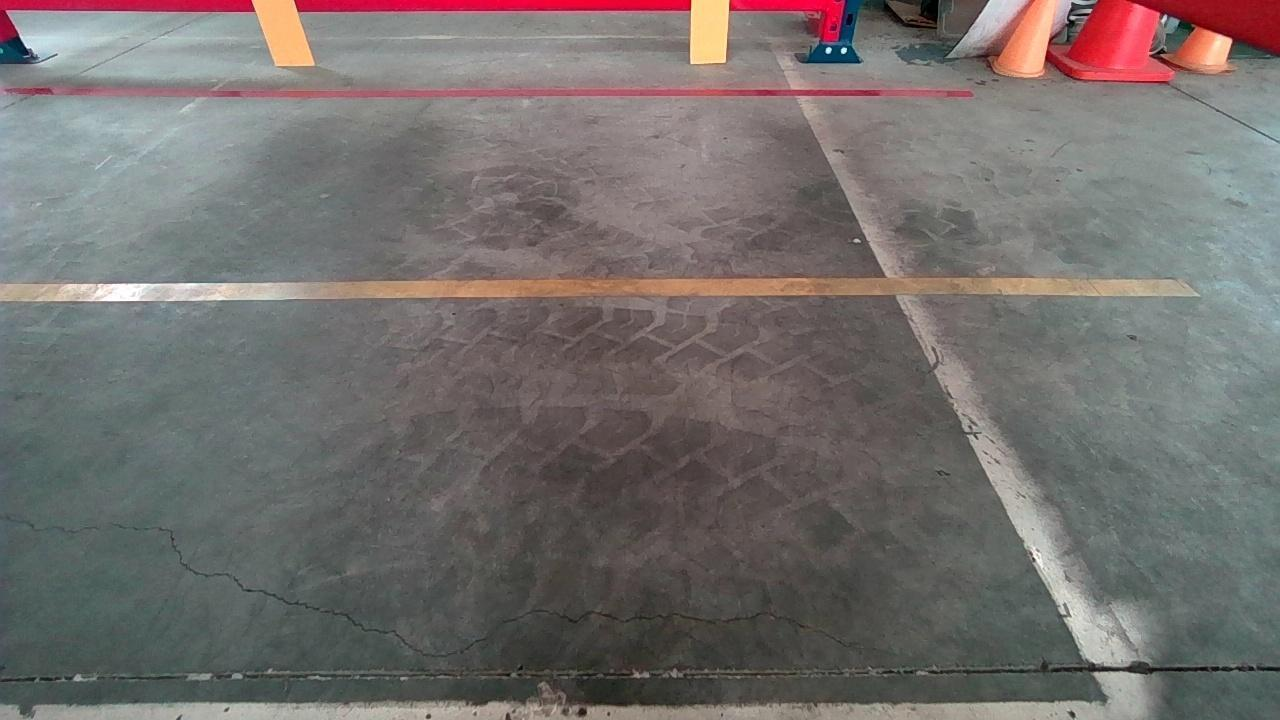red_line: (0, 84, 973, 101)
yellow_line: (0, 276, 1194, 304)
